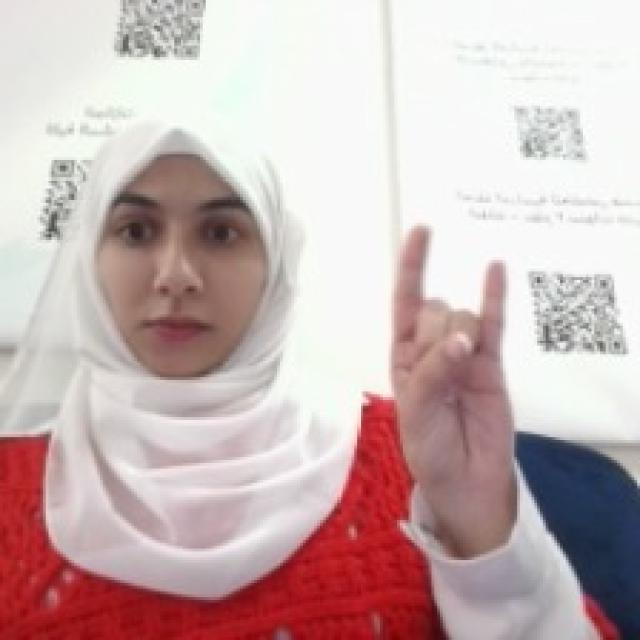No: (383, 214, 520, 489)
